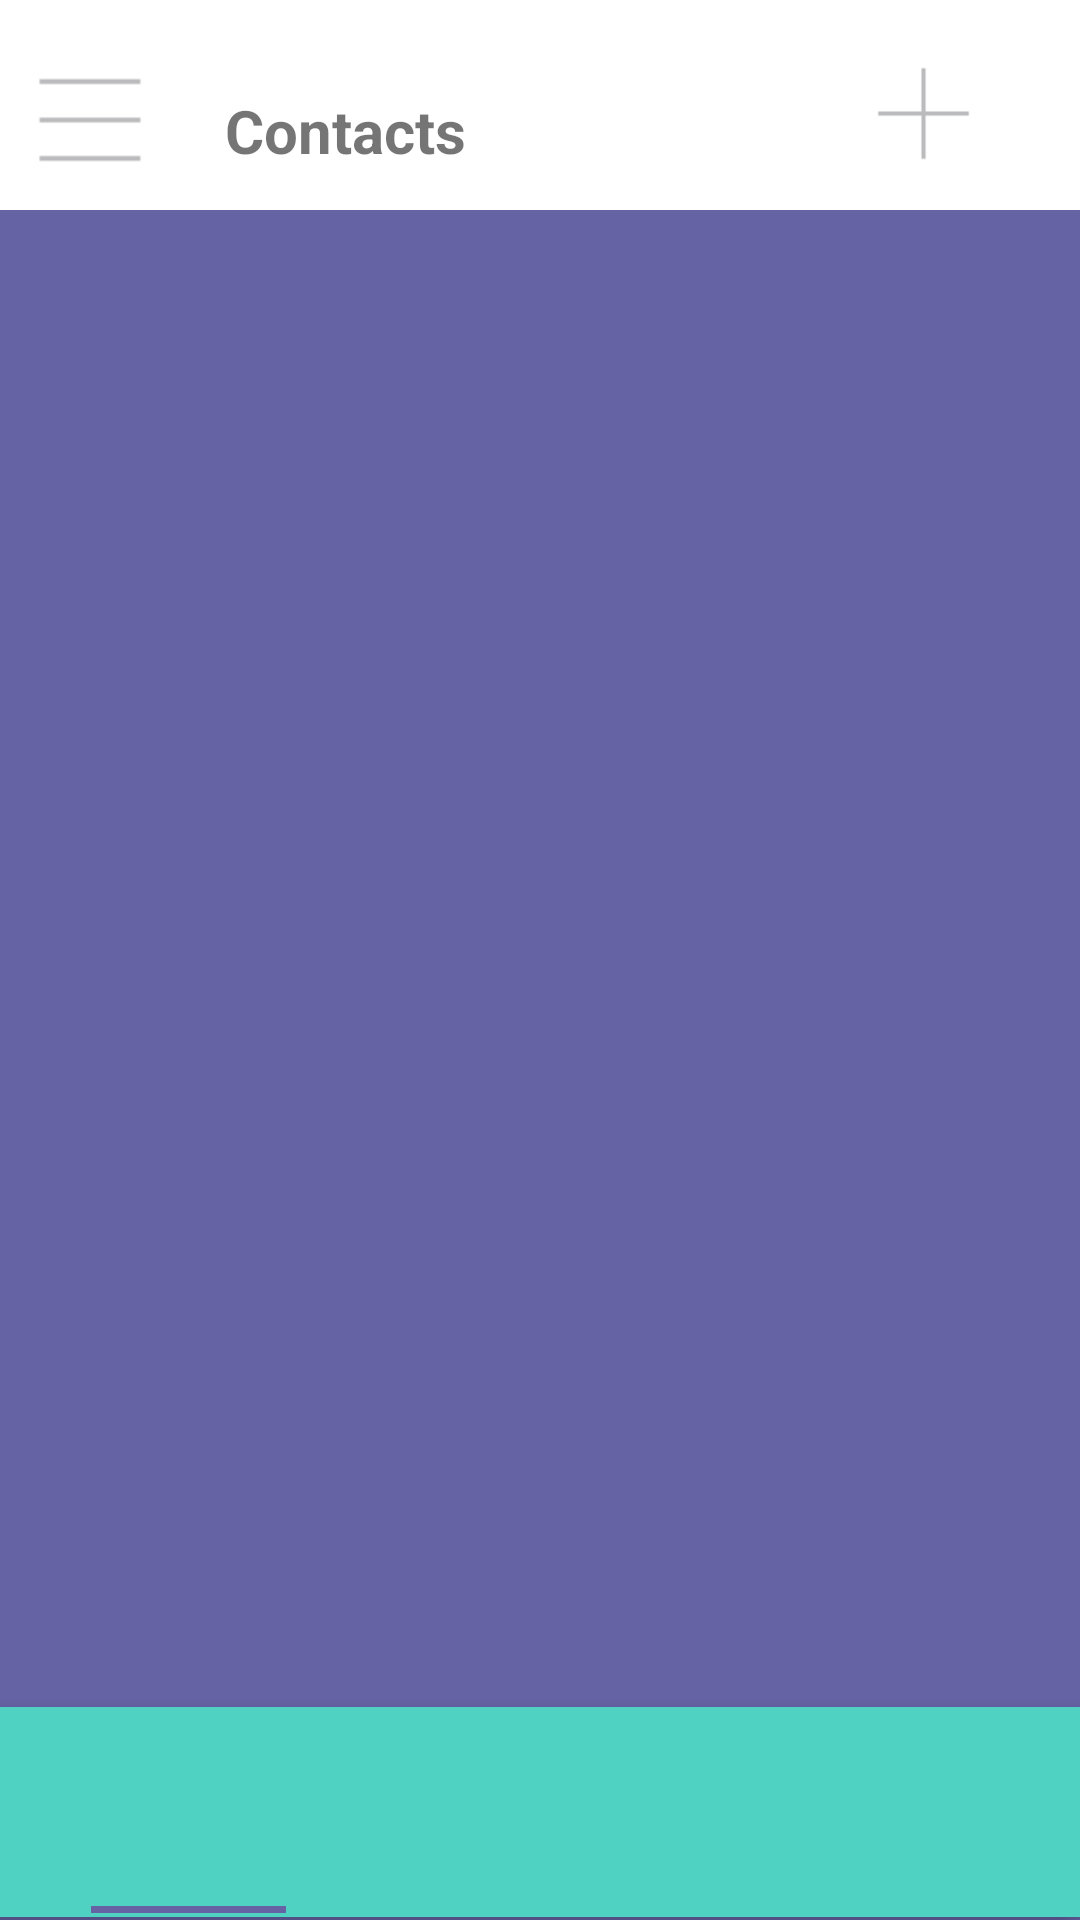

Icons on this 1080 × 1920 Android screen, each with its box as bbox=[x1, y1, x2, y2]:
add: bbox=[878, 68, 969, 159]
open sidebar: bbox=[39, 79, 141, 161]
